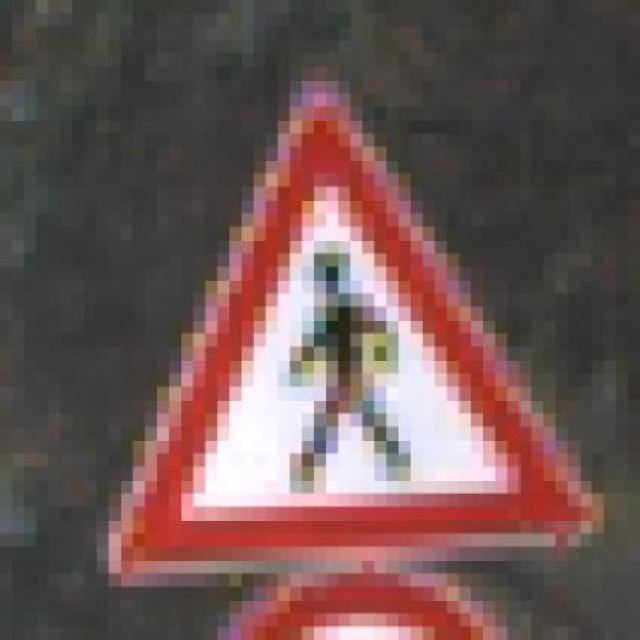Pedestrian Crossing: (96, 66, 604, 574)
